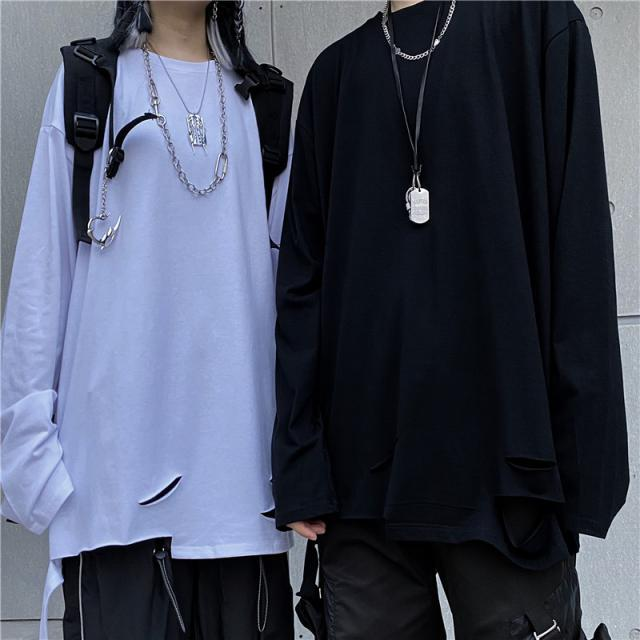Shirt: (270, 0, 626, 546), (1, 33, 297, 560)
